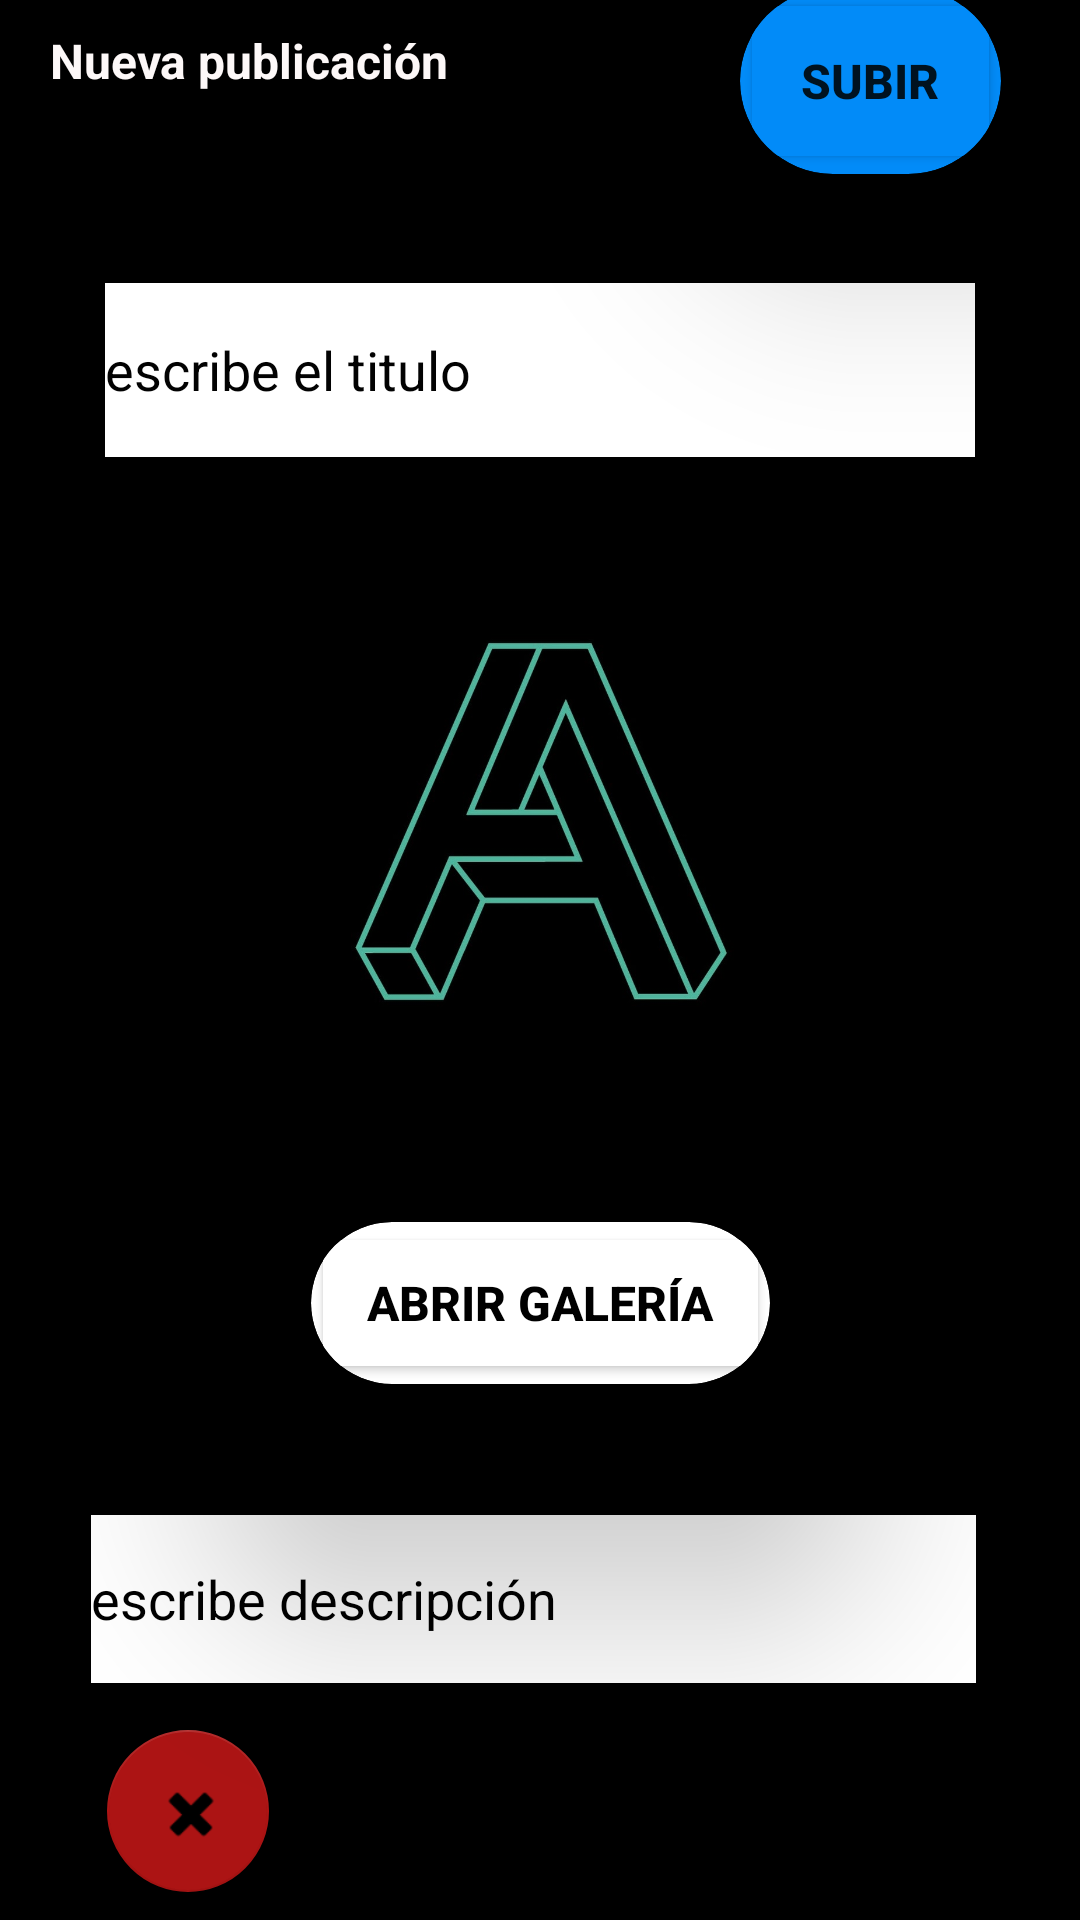

Where to tap for icons on this 1080px×1920px app screen, as point (x, y):
delete: point (188, 1811)
